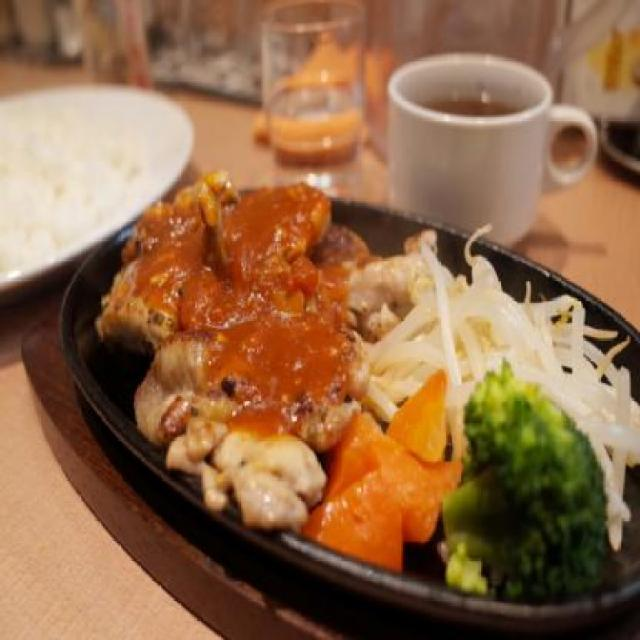Broccoli: (440, 356, 616, 607)
